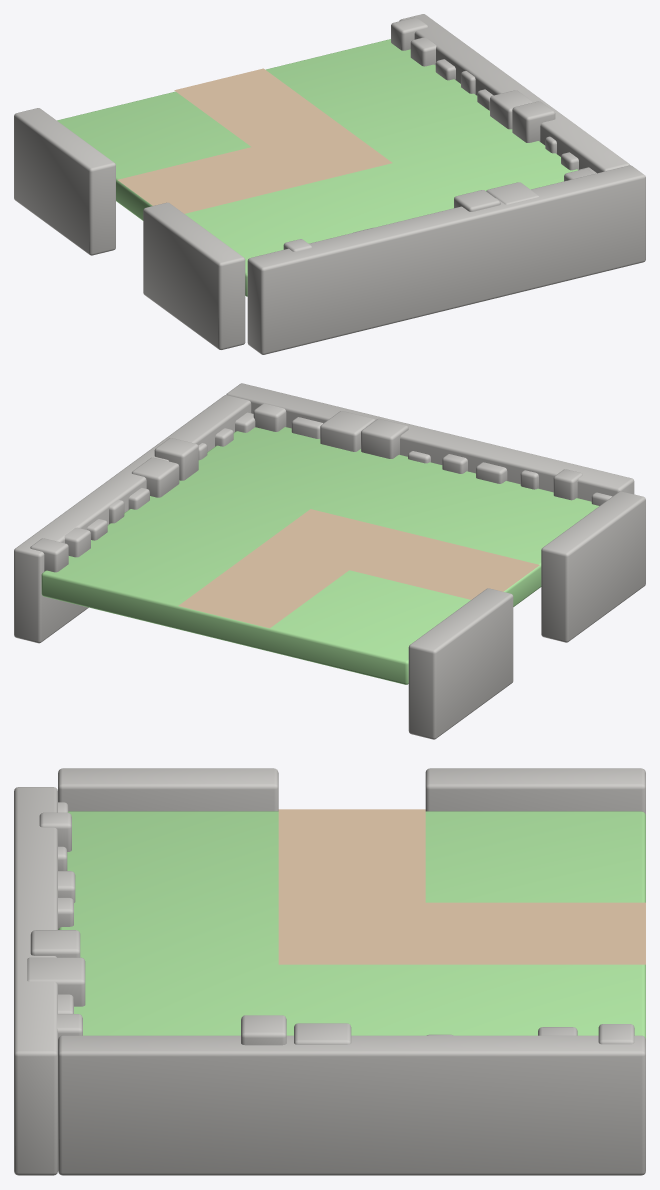
The model's file is chunk_switchback_l.glb.
The picture shows the model from 3 angles, top to bottom: view 1: azimuth 30°, elevation 25°; view 2: azimuth 150°, elevation 25°; view 3: azimuth 270°, elevation 25°; orthographic projection. The views are drawn at different scales.
Parts seen in each view (by area): view 1: Chunk_SwitchbackL_surface, Chunk_SwitchbackL_cliff_n, Chunk_SwitchbackL_path_in, Chunk_SwitchbackL_cliff_whi, Chunk_SwitchbackL_cliff_wlo, Chunk_SwitchbackL_path_out, Chunk_SwitchbackL_cliff_e, Chunk_SwitchbackL_rock_e6, Chunk_SwitchbackL_rock_e5, Chunk_SwitchbackL_rock_e0, Chunk_SwitchbackL_rock_n7, Chunk_SwitchbackL_rock_n6 (+1 smaller); view 2: Chunk_SwitchbackL_surface, Chunk_SwitchbackL_path_in, Chunk_SwitchbackL_cliff_wlo, Chunk_SwitchbackL_cliff_whi, Chunk_SwitchbackL_cliff_e, Chunk_SwitchbackL_cliff_n, Chunk_SwitchbackL_path_out, Chunk_SwitchbackL_rock_n7, Chunk_SwitchbackL_rock_n6, Chunk_SwitchbackL_rock_e5, Chunk_SwitchbackL_rock_e6, Chunk_SwitchbackL_rock_e0 (+5 smaller); view 3: Chunk_SwitchbackL_surface, Chunk_SwitchbackL_cliff_e, Chunk_SwitchbackL_path_in, Chunk_SwitchbackL_cliff_n, Chunk_SwitchbackL_path_out, Chunk_SwitchbackL_cliff_wlo, Chunk_SwitchbackL_cliff_whi, Chunk_SwitchbackL_rock_n7, Chunk_SwitchbackL_rock_e6, Chunk_SwitchbackL_rock_n6, Chunk_SwitchbackL_rock_e5, Chunk_SwitchbackL_rock_n1 (+1 smaller).
Boxes of the visible parts, left/top/right/bottom form: Chunk_SwitchbackL_surface: left=57, top=39, right=577, bottom=296; Chunk_SwitchbackL_cliff_n: left=247, top=165, right=645, bottom=354; Chunk_SwitchbackL_path_in: left=174, top=68, right=392, bottom=184; Chunk_SwitchbackL_cliff_whi: left=143, top=202, right=245, bottom=349; Chunk_SwitchbackL_cliff_wlo: left=14, top=108, right=115, bottom=255; Chunk_SwitchbackL_path_out: left=117, top=147, right=302, bottom=213; Chunk_SwitchbackL_cliff_e: left=399, top=14, right=629, bottom=173; Chunk_SwitchbackL_rock_e6: left=512, top=101, right=555, bottom=142; Chunk_SwitchbackL_rock_e5: left=490, top=90, right=533, bottom=129; Chunk_SwitchbackL_rock_e0: left=391, top=17, right=428, bottom=50; Chunk_SwitchbackL_rock_n7: left=486, top=182, right=539, bottom=204; Chunk_SwitchbackL_rock_n6: left=454, top=190, right=500, bottom=211; Chunk_SwitchbackL_surface: left=41, top=427, right=598, bottom=684; Chunk_SwitchbackL_path_in: left=178, top=509, right=401, bottom=628; Chunk_SwitchbackL_cliff_wlo: left=408, top=588, right=513, bottom=739; Chunk_SwitchbackL_cliff_whi: left=541, top=491, right=645, bottom=642; Chunk_SwitchbackL_cliff_e: left=14, top=395, right=251, bottom=643; Chunk_SwitchbackL_cliff_n: left=226, top=383, right=634, bottom=501; Chunk_SwitchbackL_path_out: left=349, top=531, right=539, bottom=599; Chunk_SwitchbackL_rock_n7: left=320, top=411, right=374, bottom=451; Chunk_SwitchbackL_rock_n6: left=361, top=418, right=408, bottom=458; Chunk_SwitchbackL_rock_e5: left=132, top=457, right=179, bottom=497; Chunk_SwitchbackL_rock_e6: left=154, top=438, right=198, bottom=480; Chunk_SwitchbackL_rock_e0: left=30, top=538, right=68, bottom=572; Chunk_SwitchbackL_surface: left=58, top=811, right=645, bottom=1038; Chunk_SwitchbackL_cliff_e: left=58, top=1035, right=645, bottom=1175; Chunk_SwitchbackL_path_in: left=278, top=902, right=645, bottom=964; Chunk_SwitchbackL_cliff_n: left=14, top=787, right=57, bottom=1175; Chunk_SwitchbackL_path_out: left=278, top=809, right=425, bottom=902; Chunk_SwitchbackL_cliff_wlo: left=425, top=768, right=645, bottom=814; Chunk_SwitchbackL_cliff_whi: left=58, top=768, right=278, bottom=811; Chunk_SwitchbackL_rock_n7: left=27, top=957, right=85, bottom=1006; Chunk_SwitchbackL_rock_e6: left=241, top=1015, right=286, bottom=1045; Chunk_SwitchbackL_rock_n6: left=30, top=930, right=80, bottom=957; Chunk_SwitchbackL_rock_e5: left=294, top=1023, right=351, bottom=1044; Chunk_SwitchbackL_rock_n1: left=39, top=812, right=71, bottom=851.
Size of the model in its own units: 27.6 by 6.11 by 25.8.
